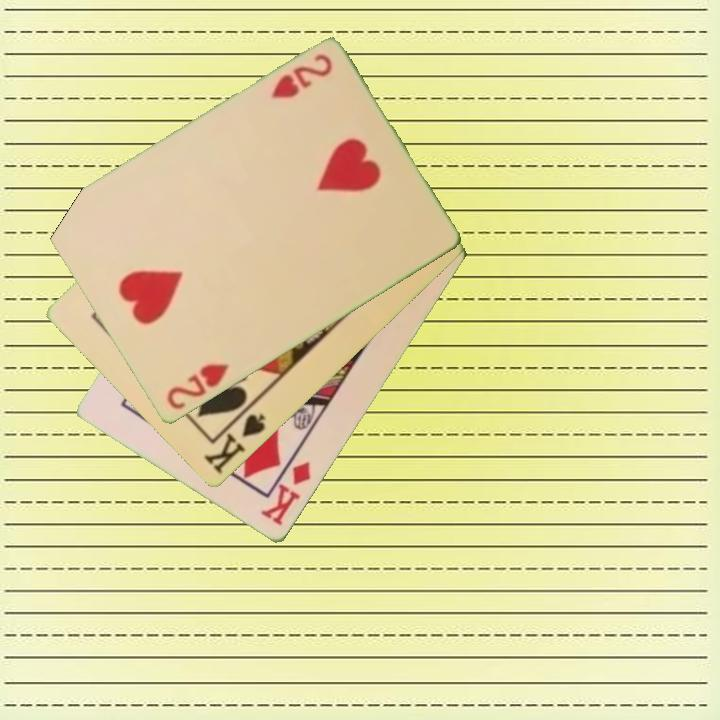2h: (163, 360, 232, 413), (267, 50, 335, 103)
Kd: (257, 458, 314, 529)
Ks: (200, 400, 269, 478)
